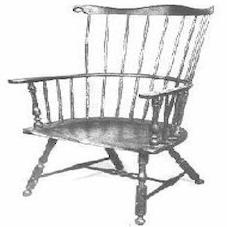chair: (5, 5, 218, 225)
